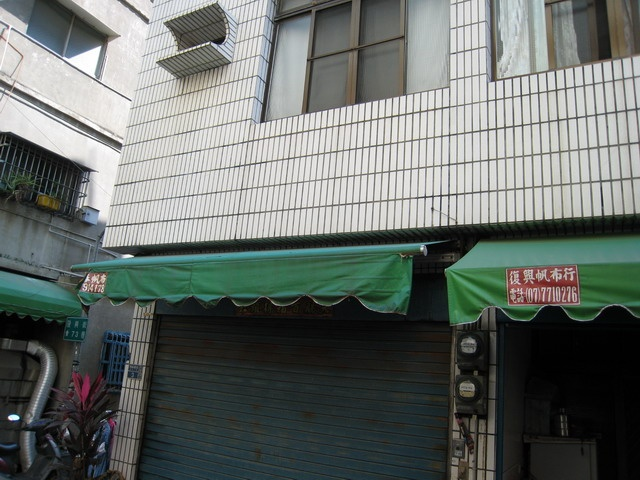plastic_bag: (72, 241, 445, 316), (443, 236, 640, 322), (1, 270, 83, 322)
